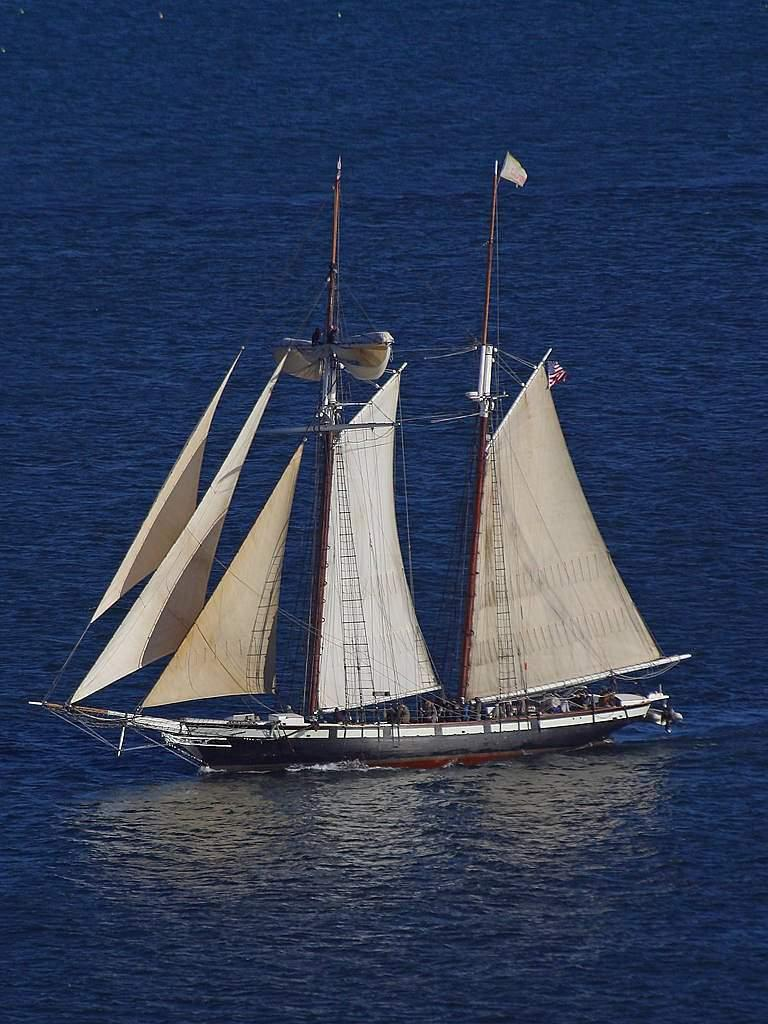Ship: (21, 148, 697, 782)
